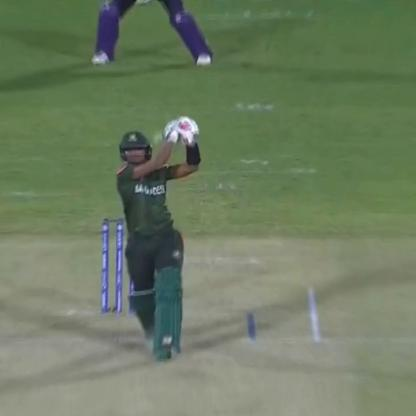pitch: (1, 274, 354, 414)
